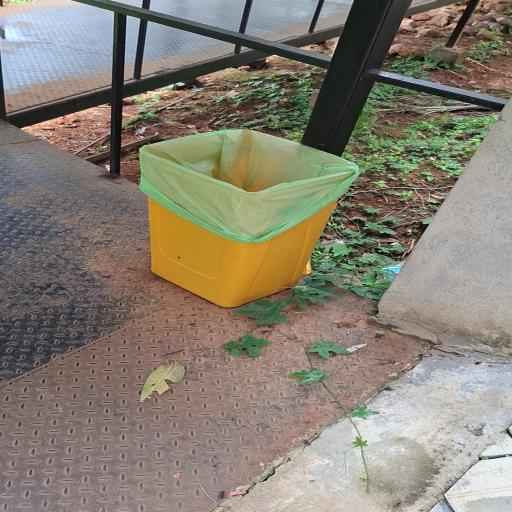Nilkamal-dustbin-detection: (140, 130, 357, 307)
